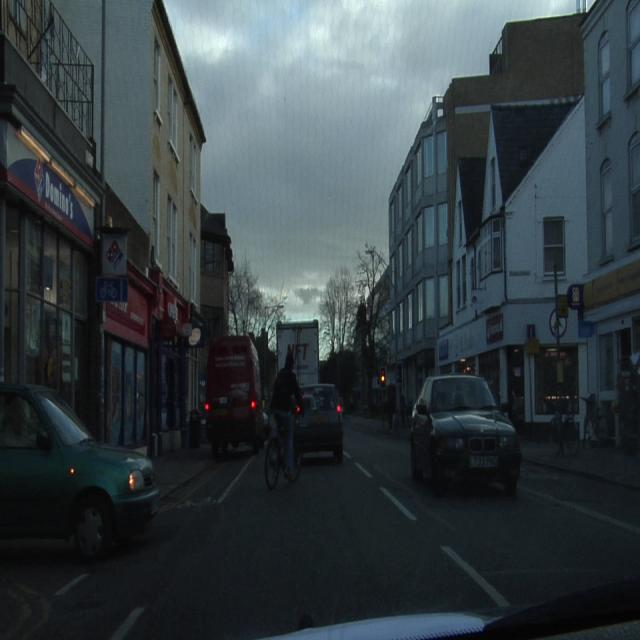Bicyclist: (265, 356, 302, 487)
Building: (387, 7, 639, 437), (1, 2, 230, 449)
Car: (1, 383, 158, 555), (411, 375, 521, 493), (297, 386, 343, 462)
Road: (0, 419, 639, 634)
Tree: (319, 245, 389, 406), (230, 260, 286, 398)
Truck_Bus: (204, 337, 261, 453)
